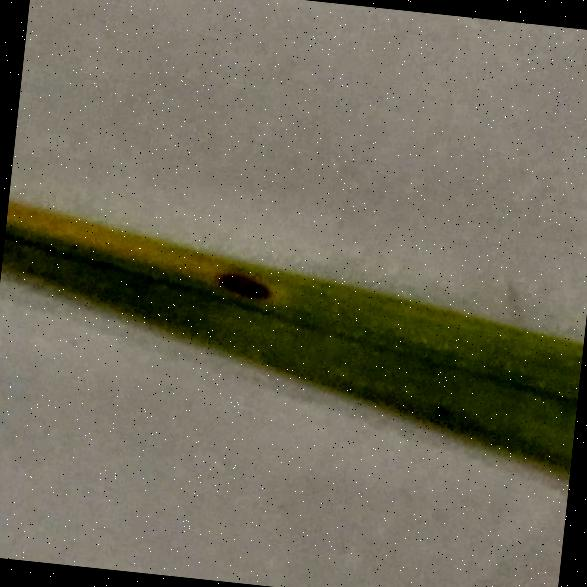Leaf_smut: (198, 260, 282, 314)
